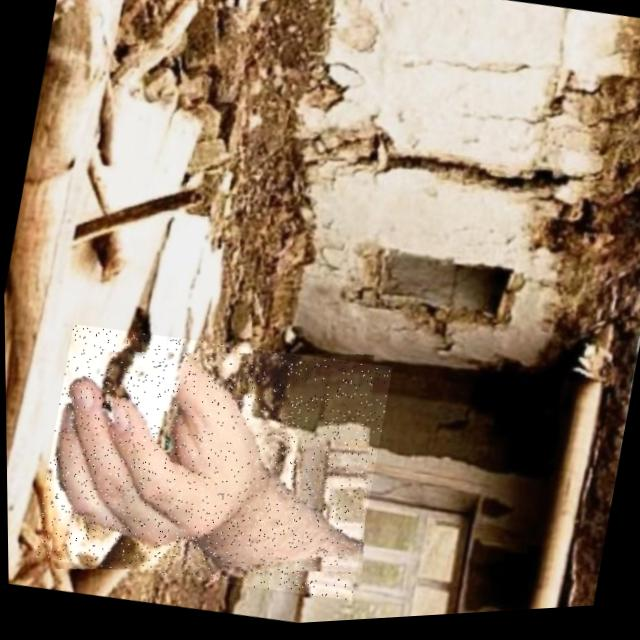Person in Rubble: (27, 310, 393, 620)
